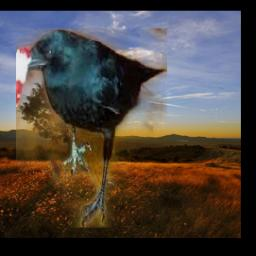Crow: (16, 28, 167, 228)
